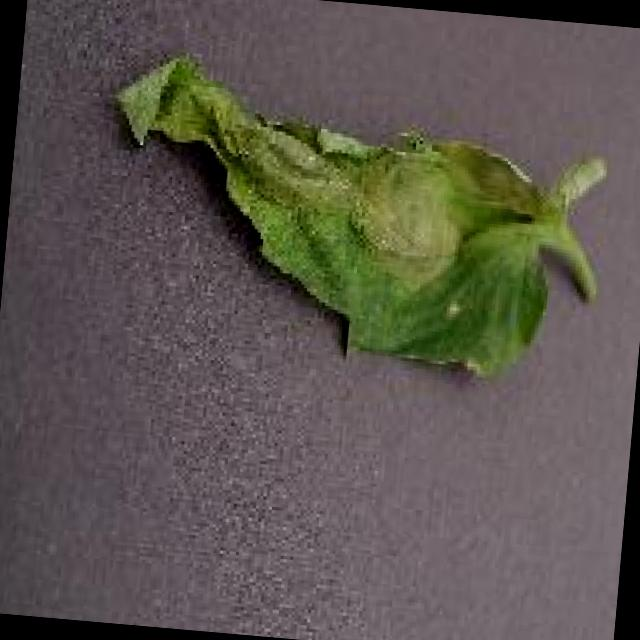leaf blight: (97, 61, 594, 377)
